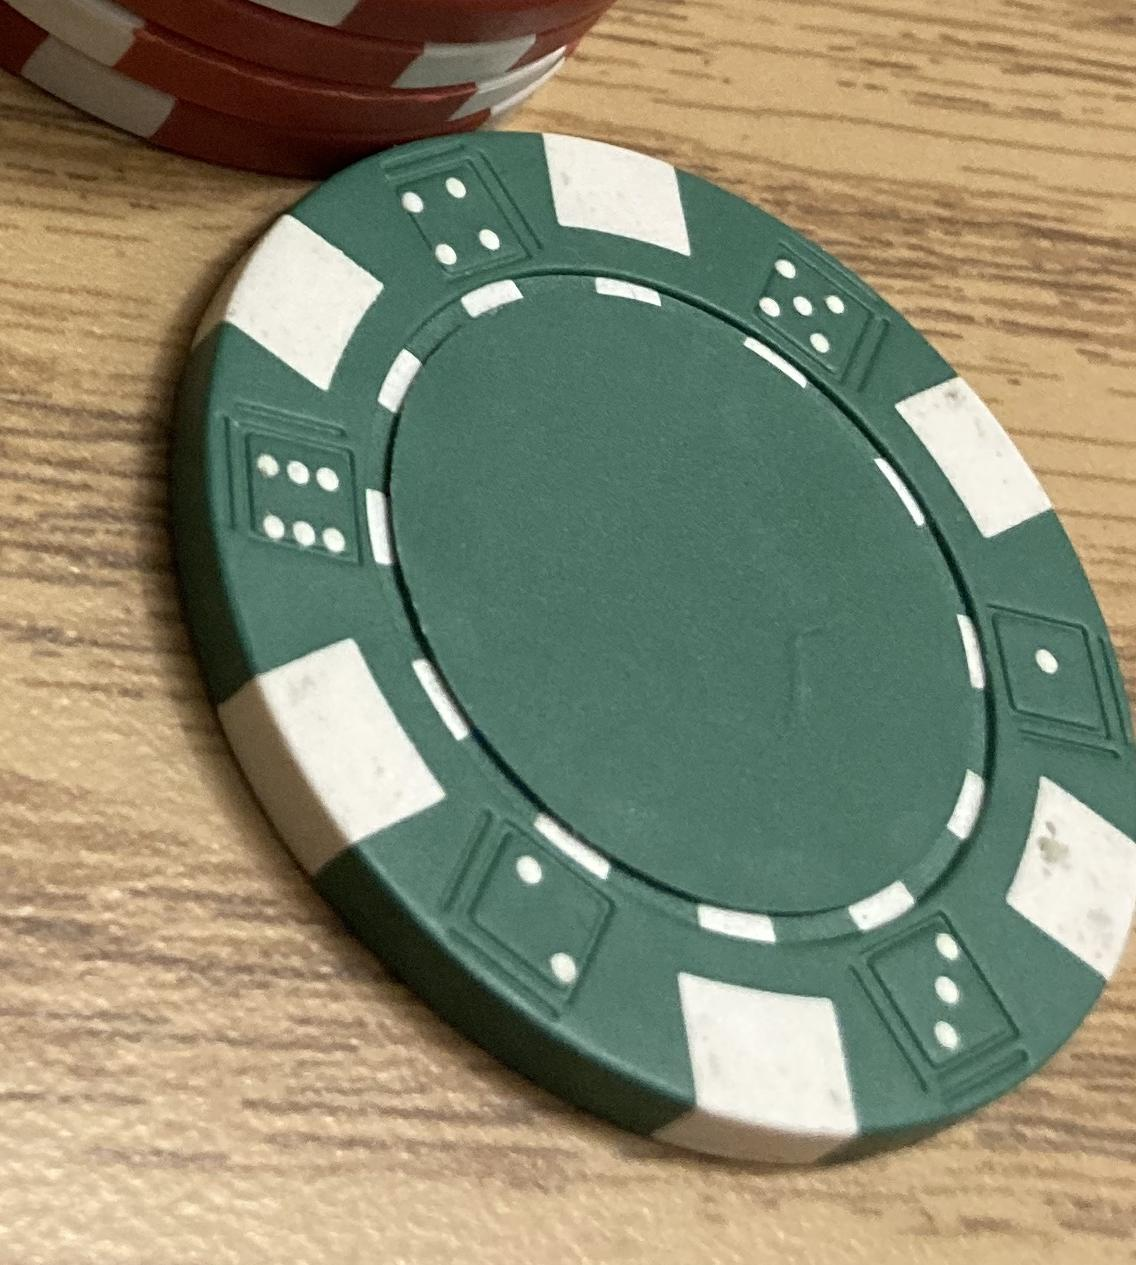Chip: (1, 1, 1136, 1265)
